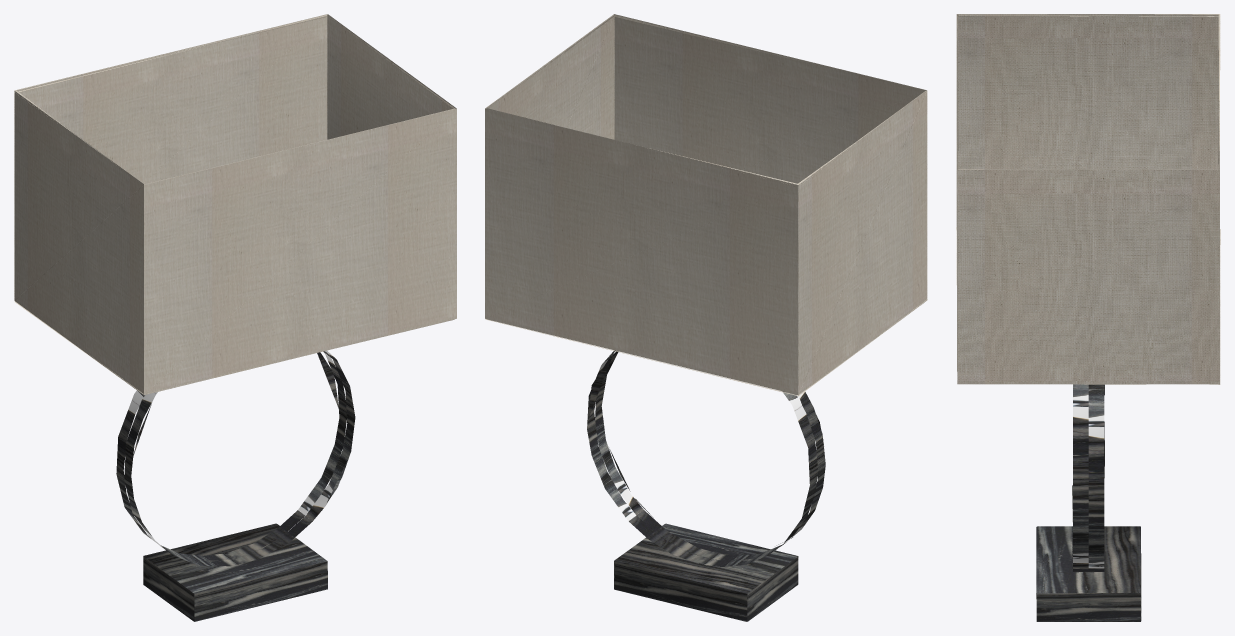
3 views of the same model, side by side, from view 1: azimuth 30°, elevation 25°; view 2: azimuth 150°, elevation 25°; view 3: azimuth 270°, elevation 25° (orthographic).
Parts seen in each view (by area): view 1: Mesh_0.022, Mesh_7.005; view 2: Mesh_0.022, Mesh_7.005; view 3: Mesh_0.022, Mesh_7.005.
Part boxes in pixels (left/top/right/bottom): Mesh_0.022: left=14, top=14, right=456, bottom=395; Mesh_7.005: left=116, top=350, right=355, bottom=621; Mesh_0.022: left=485, top=14, right=927, bottom=396; Mesh_7.005: left=587, top=350, right=825, bottom=621; Mesh_0.022: left=956, top=14, right=1220, bottom=384; Mesh_7.005: left=1036, top=384, right=1141, bottom=621.
Size of the model in its own units: 0.3567 by 0.5305 by 0.2552.
Materials: 3 (3 with a texture image).
